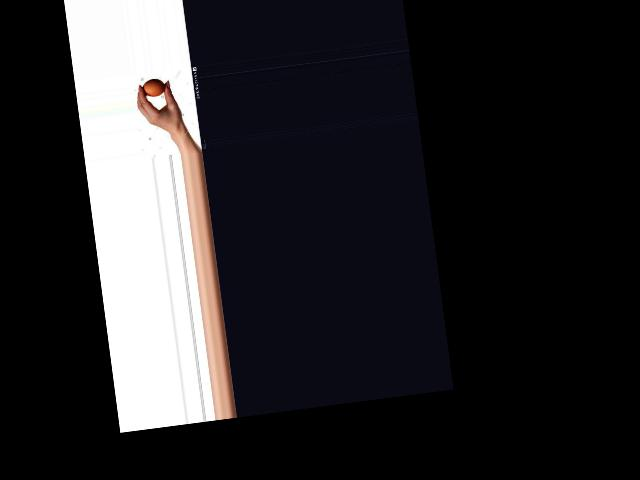egg: (142, 78, 166, 98)
